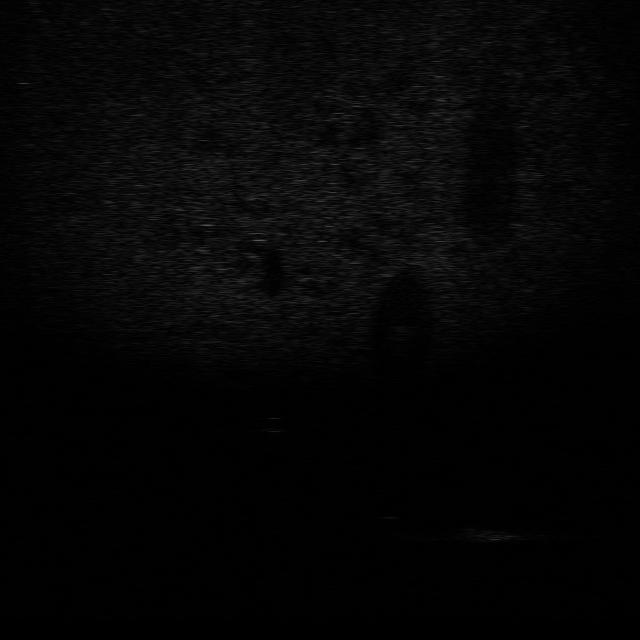metal bucket: (369, 513, 441, 542), (254, 414, 291, 434)
tyre: (448, 525, 532, 546)
